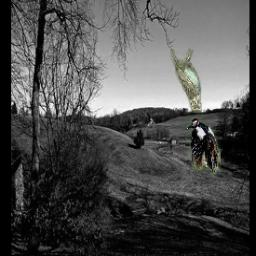Sparrow: (170, 45, 202, 114)
Woodpecker: (185, 118, 221, 174)
